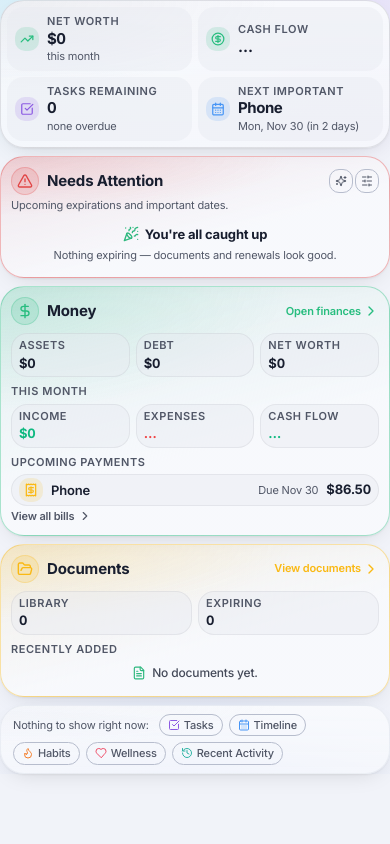
it: ExecutiveBriefing › Schedule · Important dates › folds away when there is nothing today or coming up, and explains itself when opened
Expected: the element with test id "exec-card-attention" is shown, left=0, top=156, right=389, bottom=278
Step 1. Click the button with test id "exec-quiet-schedule" → (267, 725), box left=229, top=714, right=306, bottom=736
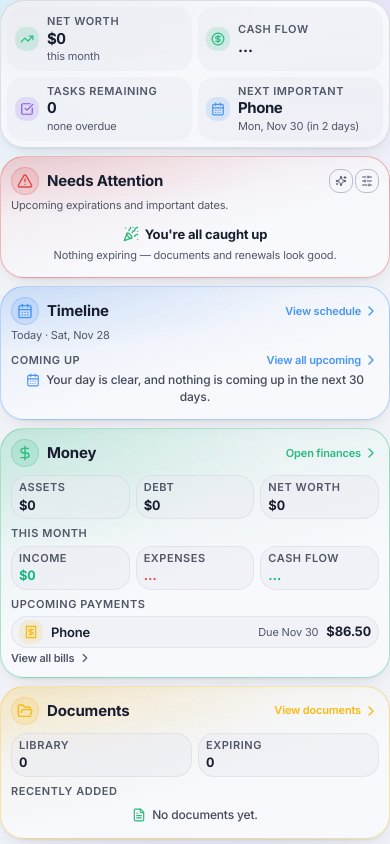
Expected: the element with test id "exec-card-schedule" shows "Your day is clear, and nothing is coming up in the next 30 days.", left=46, top=372, right=364, bottom=404
